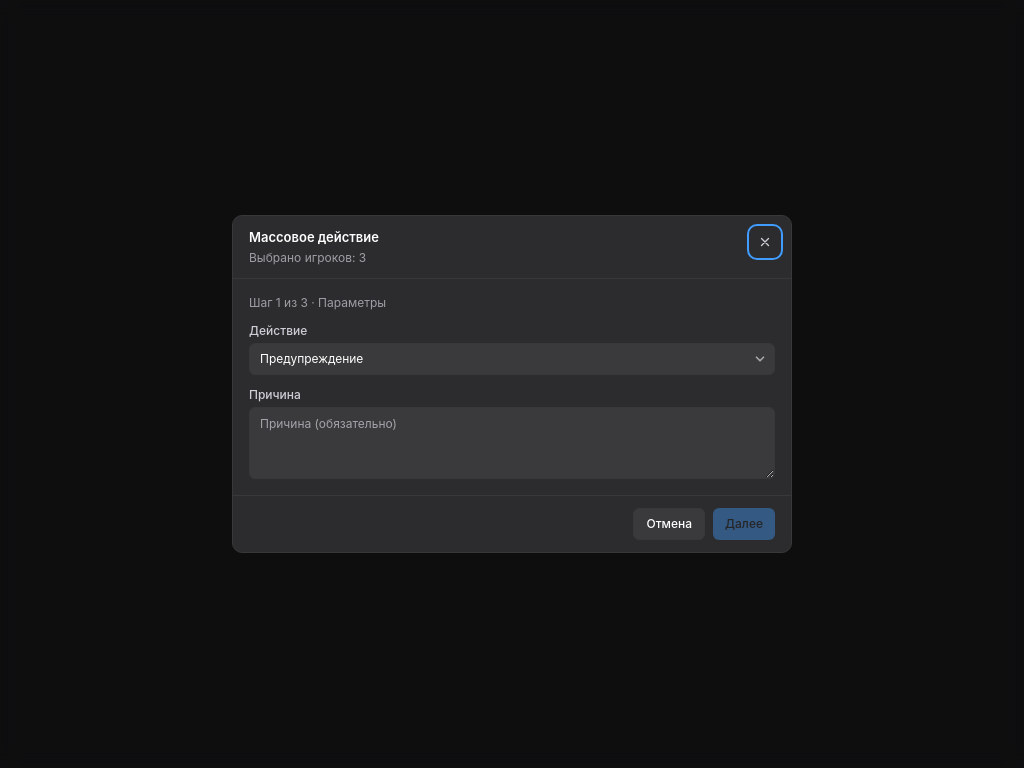
it: BulkModerationModal › blocks the ban confirmation until the target count is typed back
The image size is (1024, 768).
Select "Бан" in the dropdown labelled "Действие" at (512, 359), box [249,343,775,375]
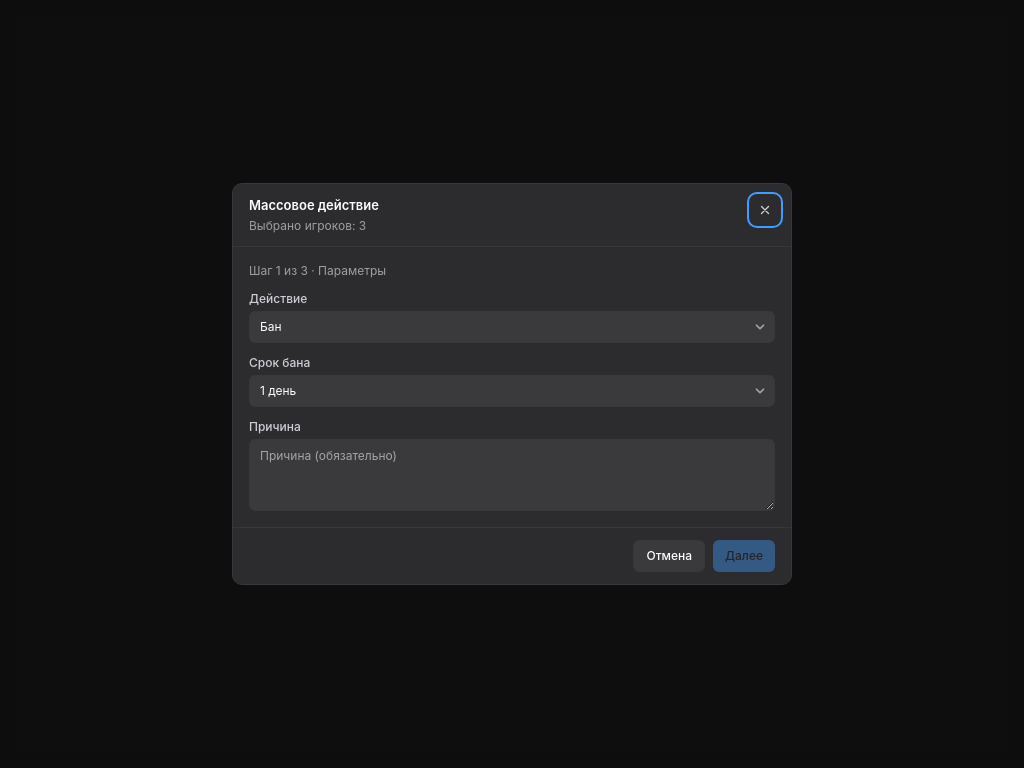
Type "Читы" into the text box labelled "Причина" at (512, 475), box [249,439,775,511]
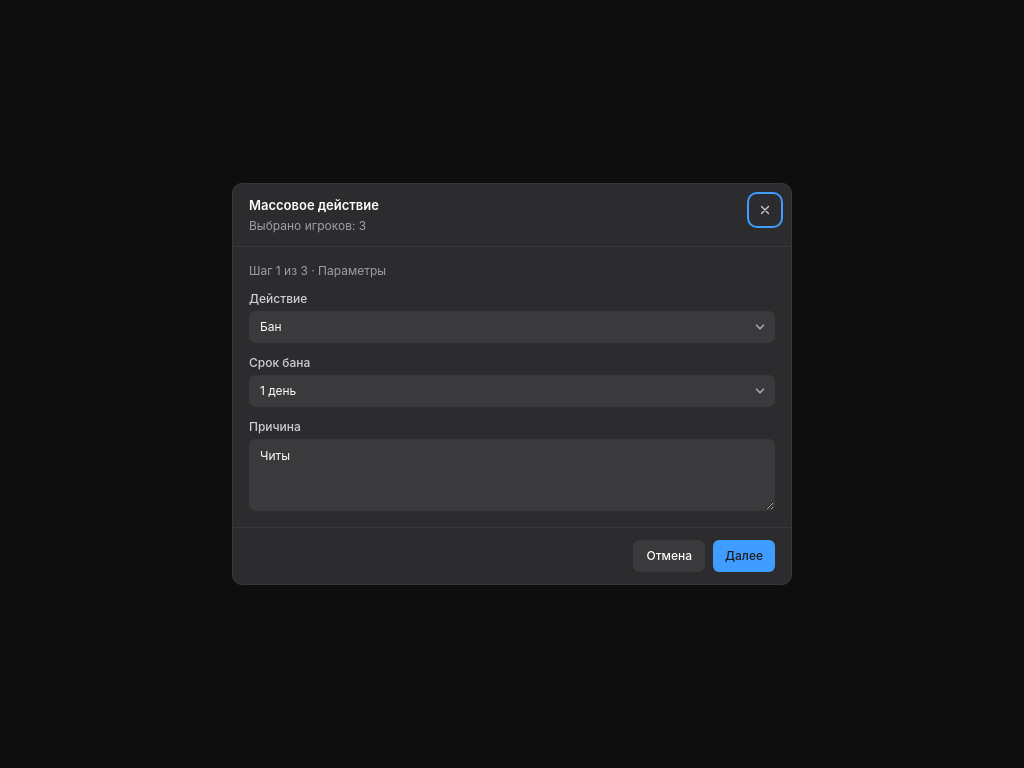
Click the button "Далее" at (744, 556), box [713,540,775,572]
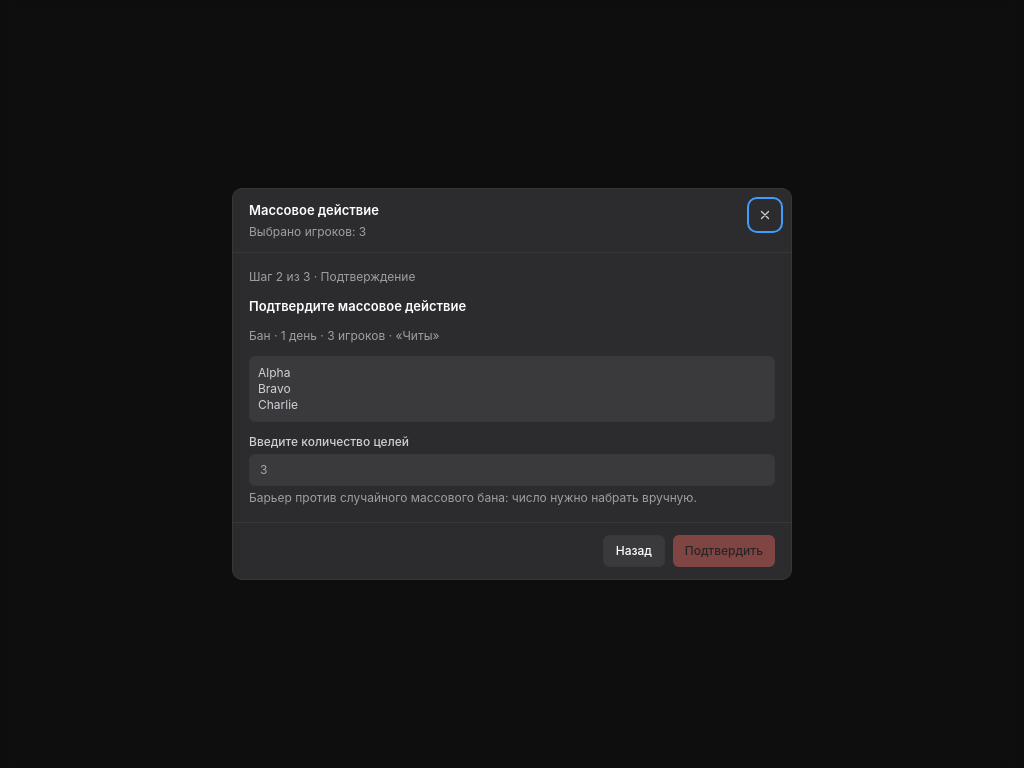
Check: the text "Подтвердите массовое действие" is shown, box [249,298,466,314]
Check: the button "Подтвердить" is disabled, box [673,535,775,567]
Type "2" into the field labelled "Введите количество целей" at (512, 470), box [249,454,775,486]
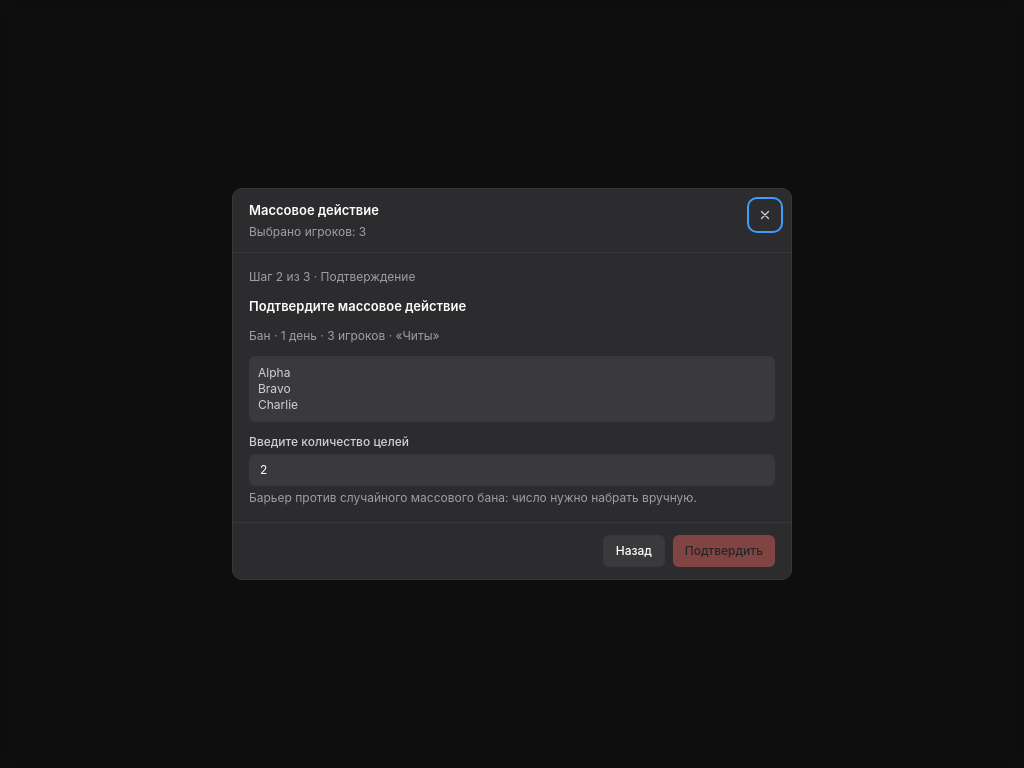
Check: the button "Подтвердить" is disabled, box [673,535,775,567]
Replace the text in the field labelled "Введите количество целей" with "3" at (512, 470), box [249,454,775,486]
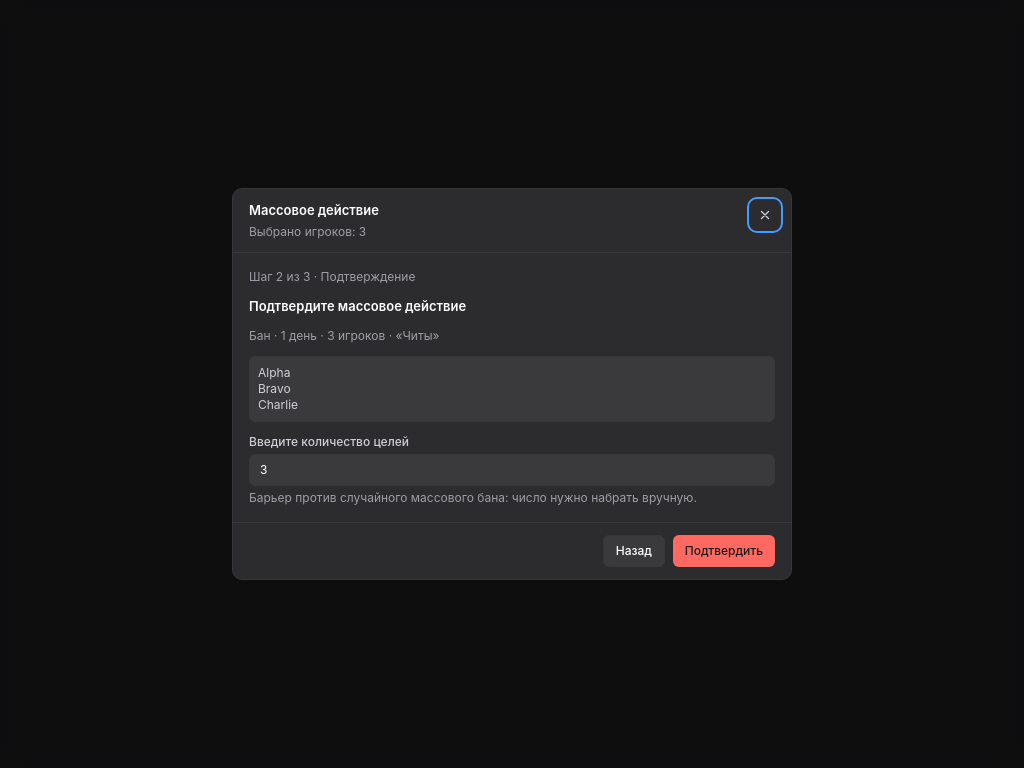
Check: the button "Подтвердить" is enabled, box [673,535,775,567]
